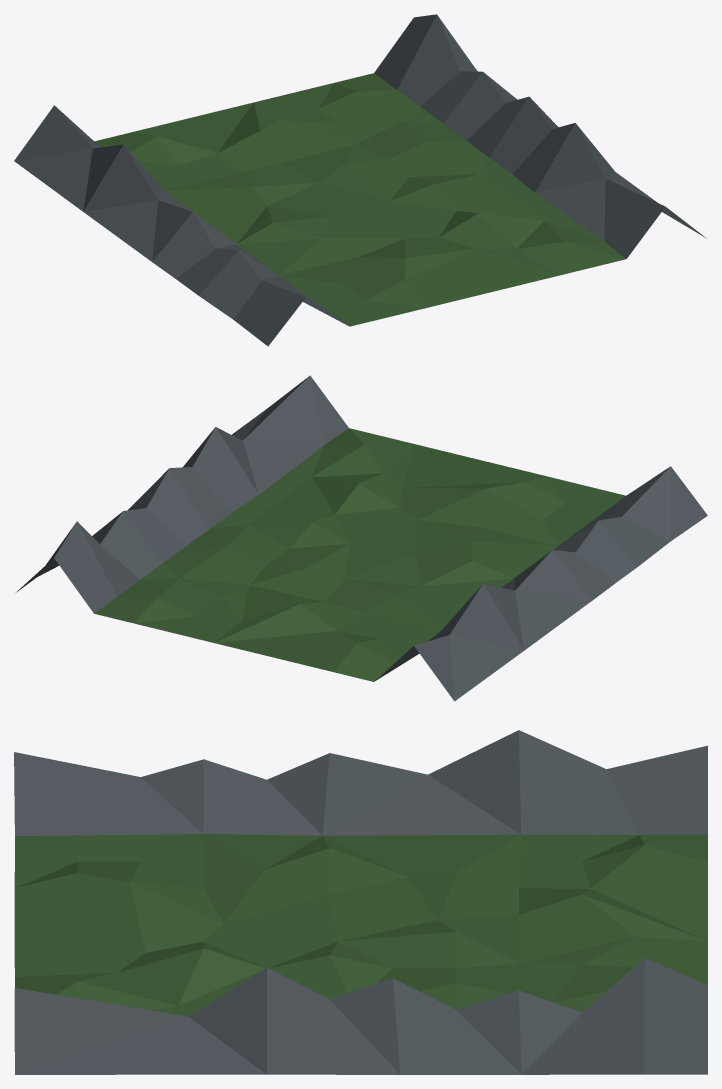
Rendered from hilltest.fbx.
The picture shows the model from 3 angles, top to bottom: view 1: azimuth 30°, elevation 25°; view 2: azimuth 150°, elevation 25°; view 3: azimuth 270°, elevation 25°; orthographic projection. The views are drawn at different scales.
Parts seen in each view (by area): view 1: Plane; view 2: Plane; view 3: Plane.
Part boxes in pixels (x1,y1,x2,y2): Plane: [14, 14, 706, 346]; Plane: [14, 375, 707, 701]; Plane: [14, 730, 707, 1074].
Bounding box in the file's own units: 1002 × 143 × 1001.
